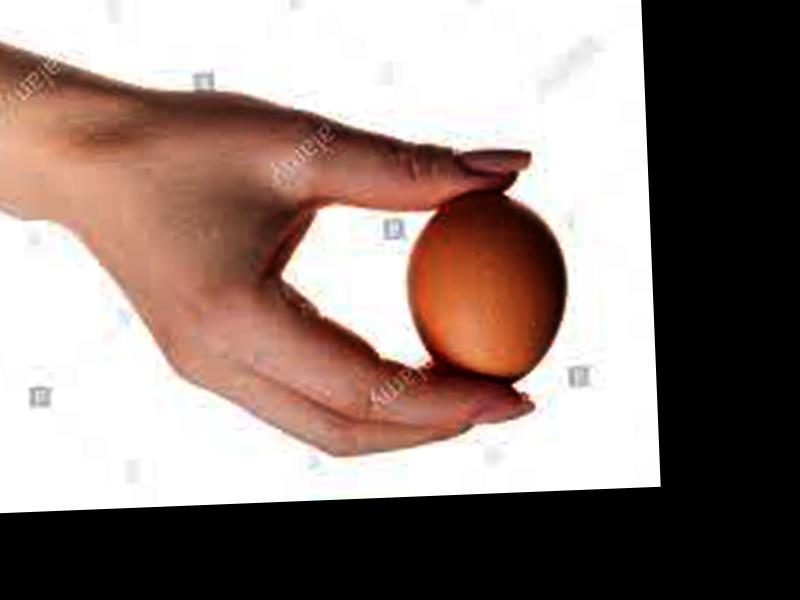Eggs: (400, 193, 568, 387)
